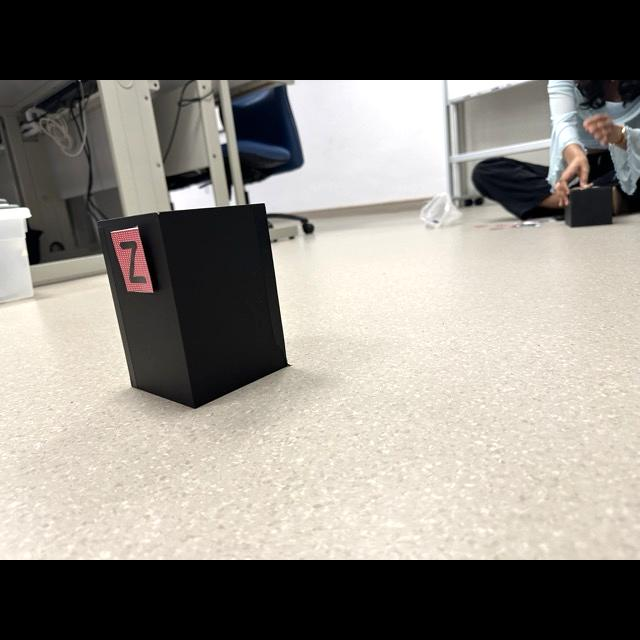Z: (120, 242, 147, 283)
